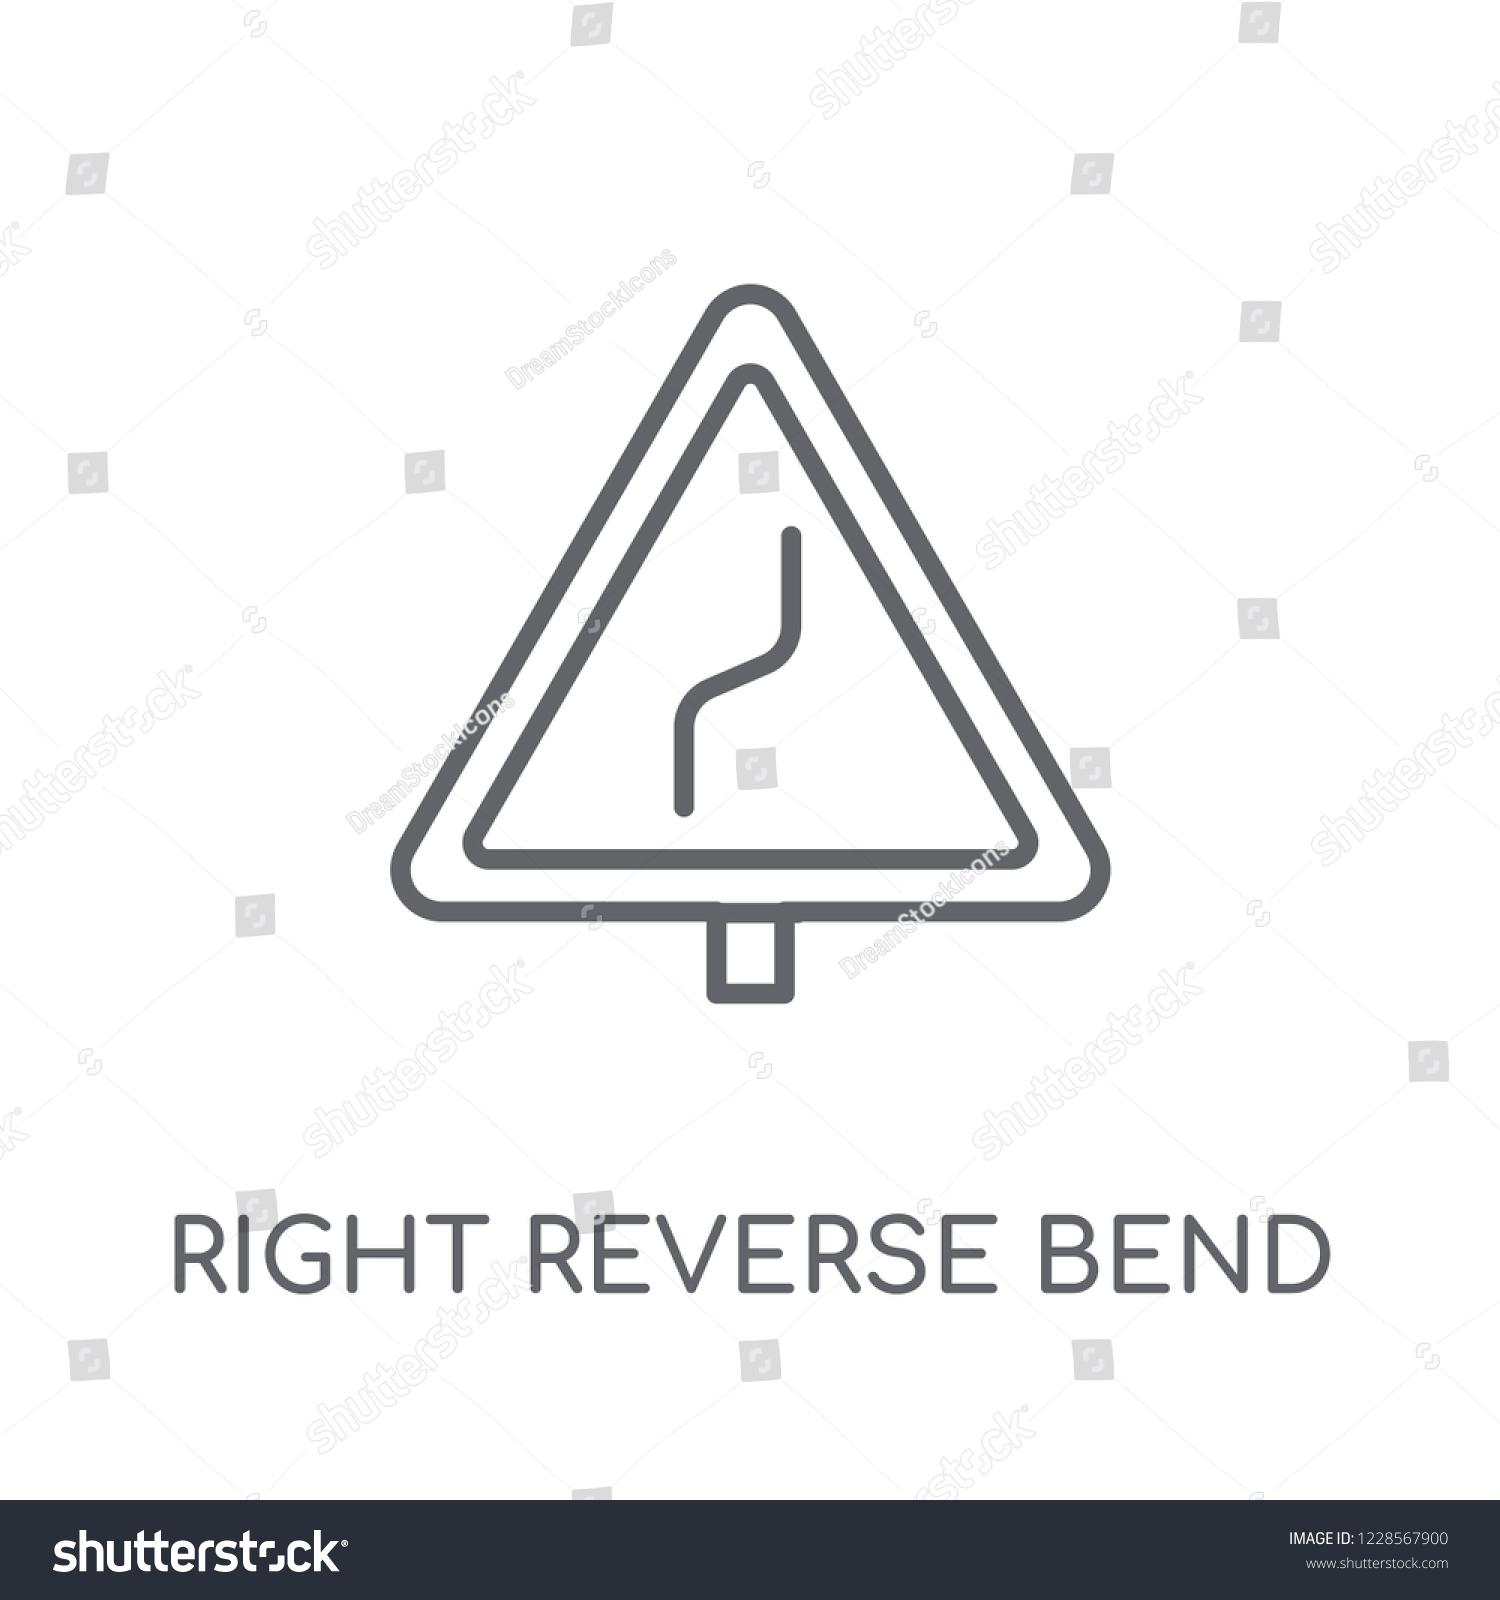Right Reverse Bend: (371, 234, 1122, 1021)
